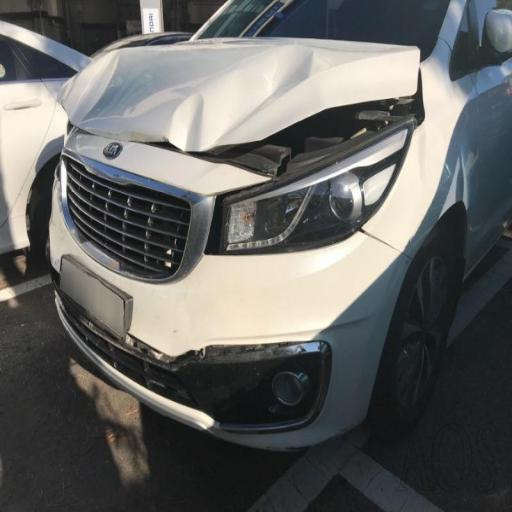dent: (84, 18, 386, 155)
